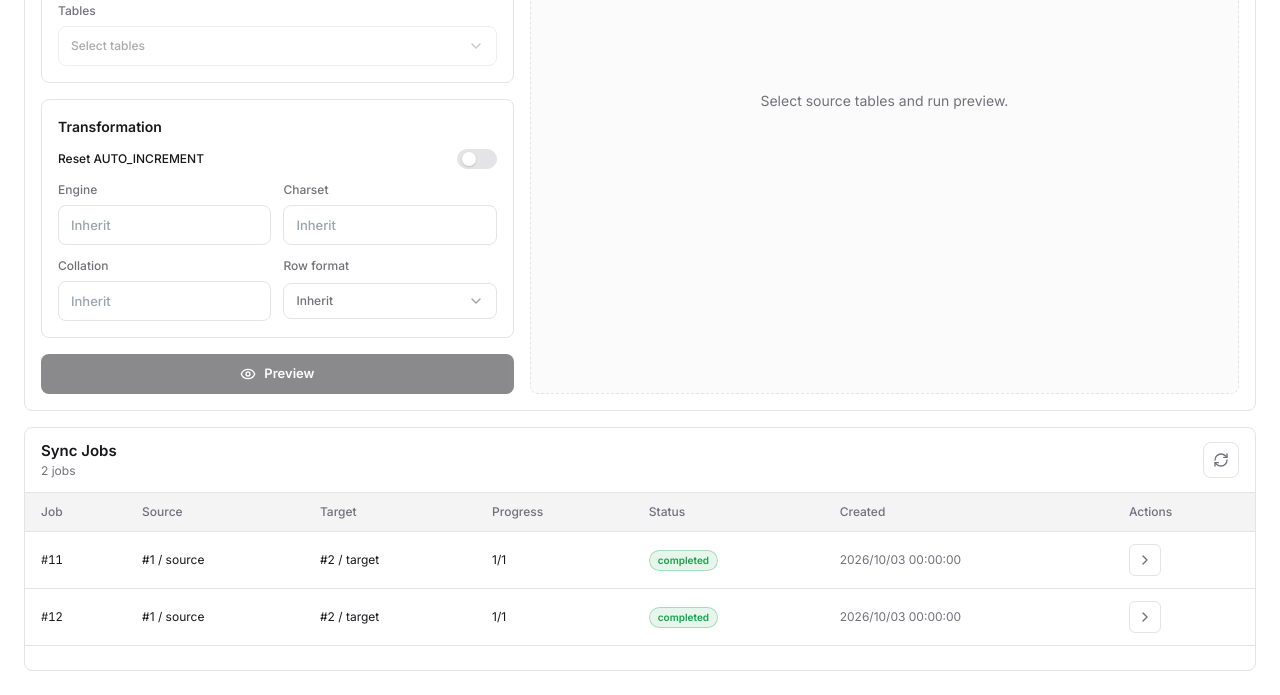
TableSchemasPage › 快速切換 job detail 時忽略較晚回來的舊 response
(page scrolled)
Expected: the text "#11" is shown, [25,532,126,588]
Step 1. Click the button named "View job 11" → (1145, 560), box [1129,544,1161,576]
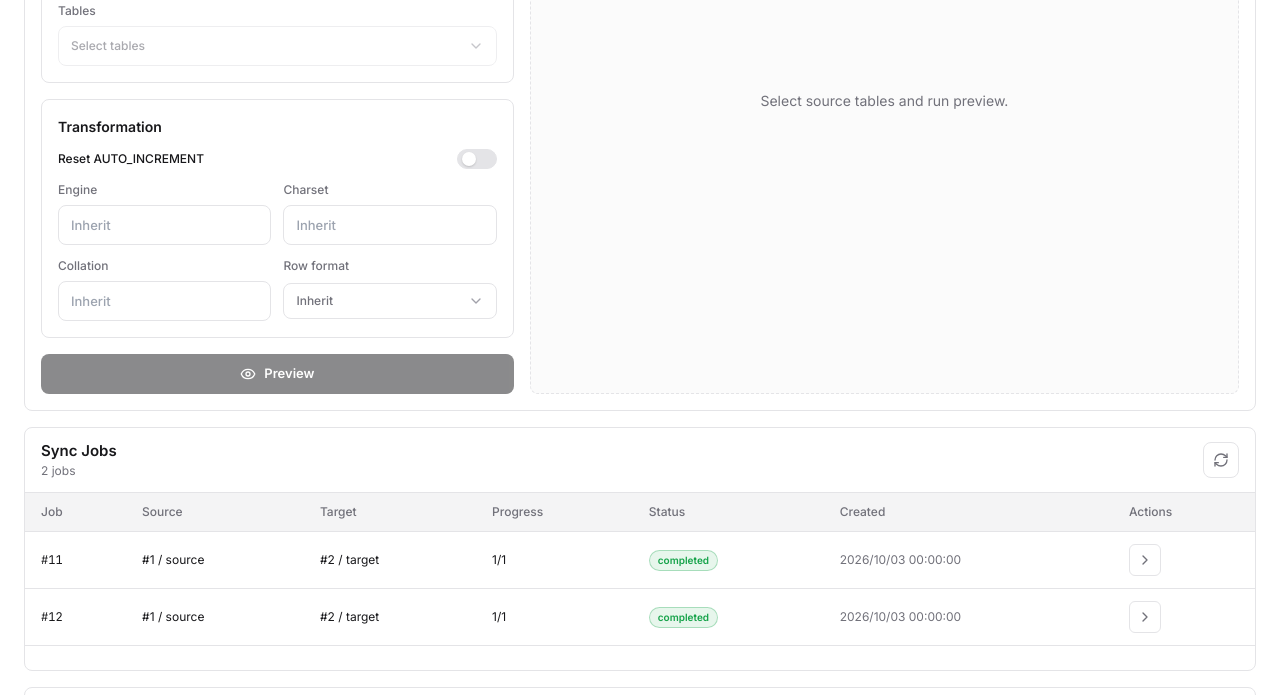
Step 2. Click the button named "View job 12" → (1145, 617), box [1129,601,1161,633]
(page scrolled)
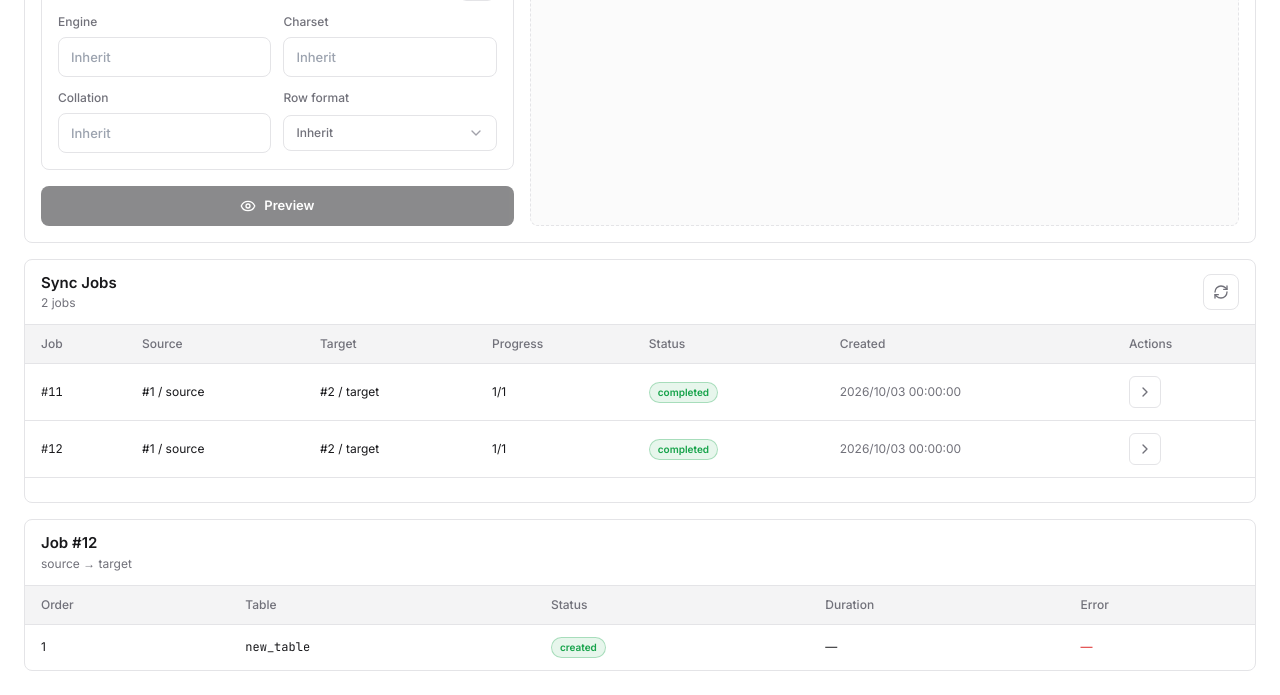
Now the text "new_table" is shown, box [229,624,535,670]
